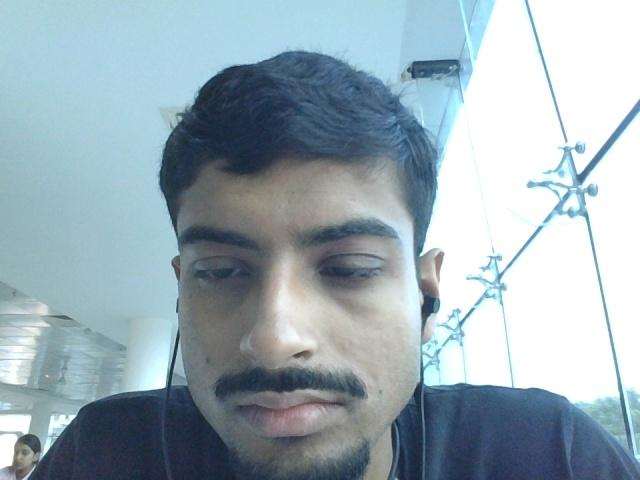nervous: (146, 69, 454, 464)
